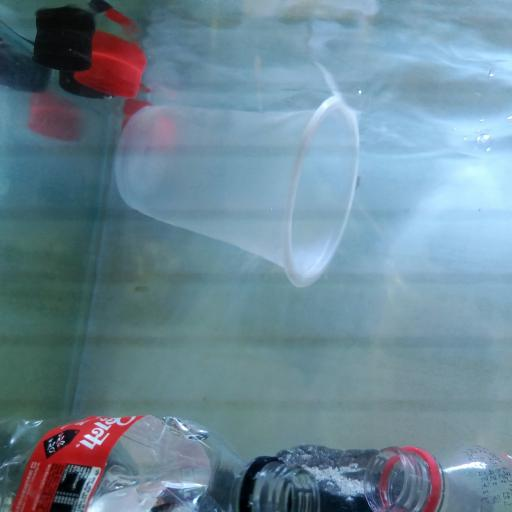bottle_cap: (74, 52, 140, 100), (37, 30, 91, 67)
plastic_bottle: (0, 414, 319, 512), (362, 443, 512, 512)
plastic_cup: (118, 93, 362, 286)
